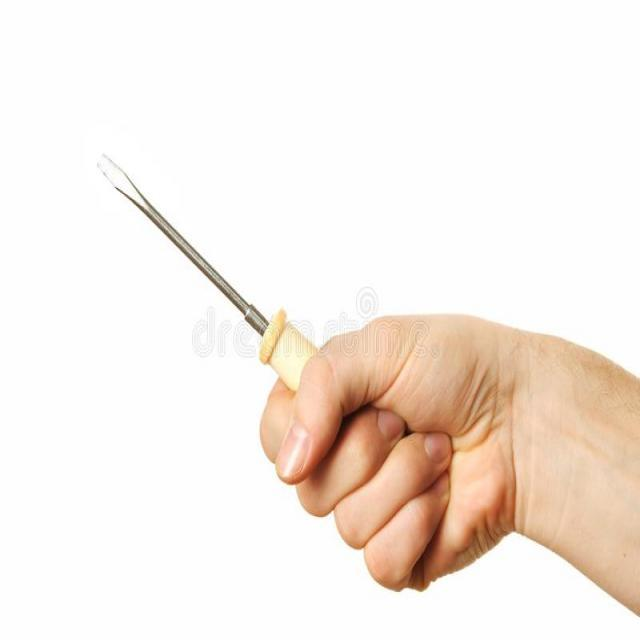screwdriver: (92, 148, 330, 396)
